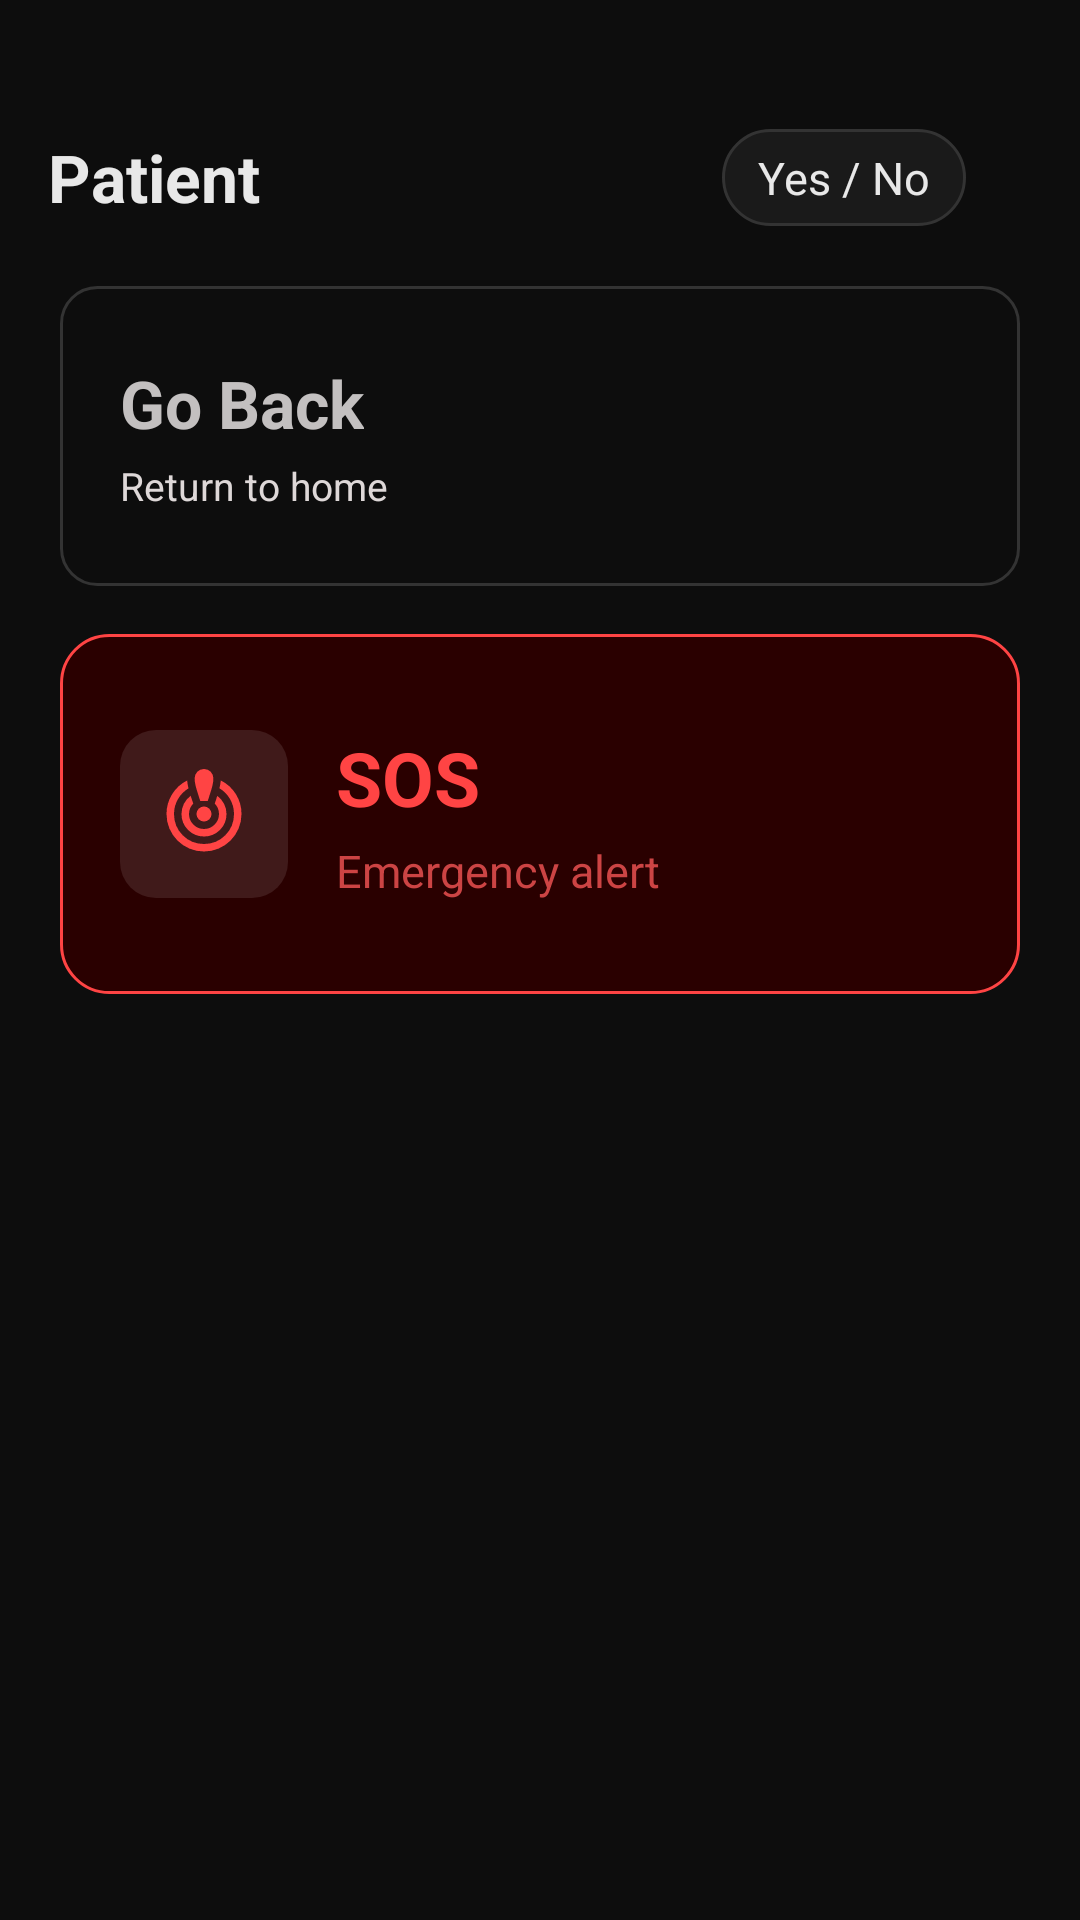

Icons on this 1080*1920 Android screen, each with the point to tap as [x,y]:
crisis alert: [204,810]
